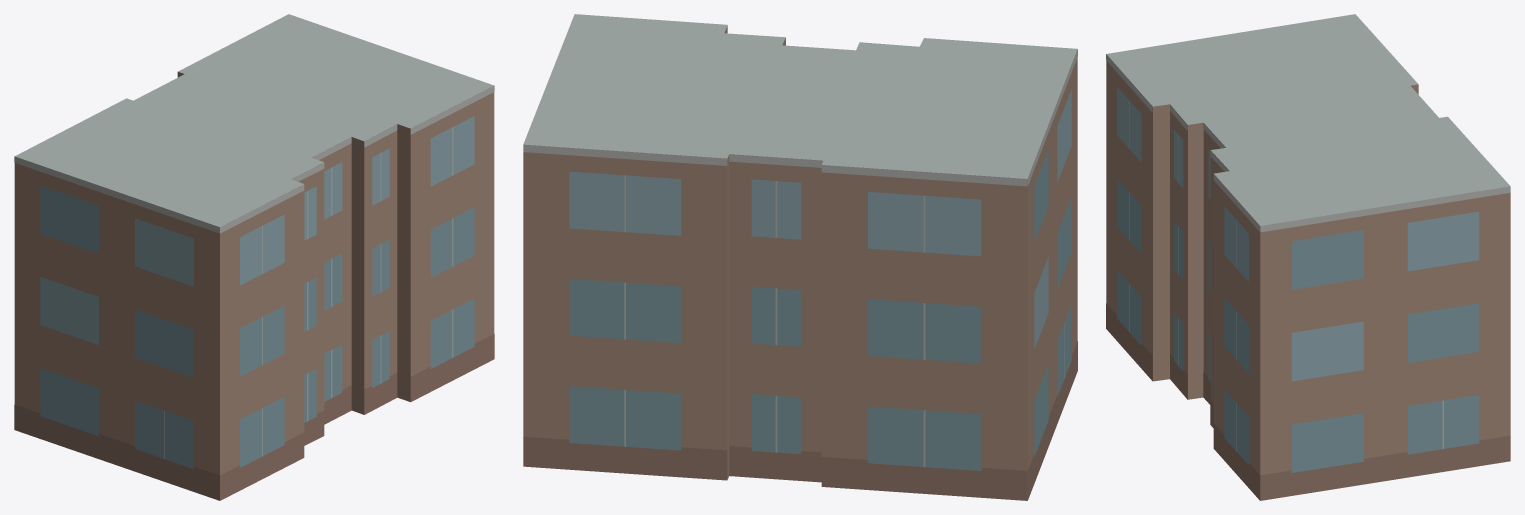
The model's file is survey-upis-32625152.glb.
3 views of the same model, side by side, from view 1: azimuth 30°, elevation 25°; view 2: azimuth 150°, elevation 25°; view 3: azimuth 270°, elevation 25° (orthographic). The views are drawn at different scales.
Visible parts, largest first — view 1: survey-upis-32625152.tmp; view 2: survey-upis-32625152.tmp; view 3: survey-upis-32625152.tmp.
Part boxes in pixels (left/top/right/bottom): survey-upis-32625152.tmp: left=14, top=14, right=494, bottom=500; survey-upis-32625152.tmp: left=523, top=14, right=1077, bottom=500; survey-upis-32625152.tmp: left=1106, top=14, right=1510, bottom=500.
Size of the model in its own units: 17.38 by 10.5 by 14.01.
